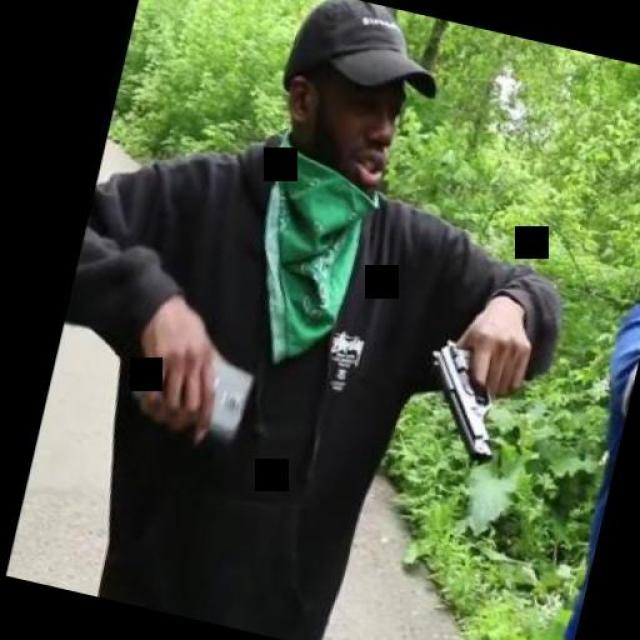gun: (410, 329, 534, 469)
